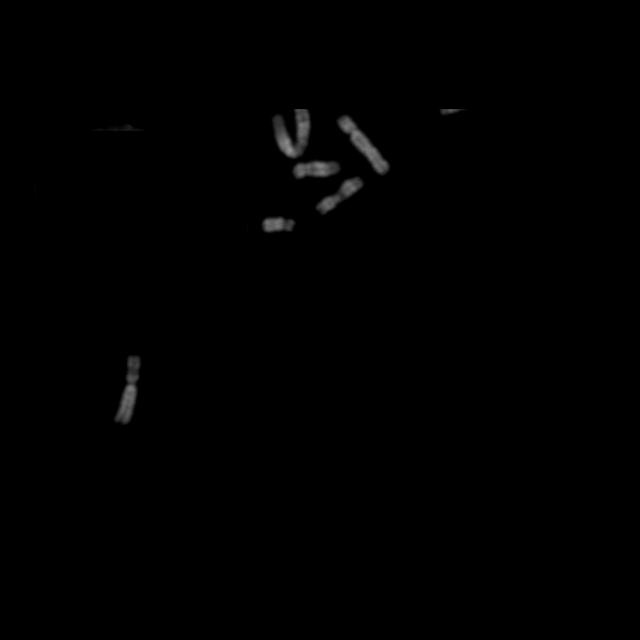chromosome: (338, 117, 390, 173), (271, 108, 311, 158), (316, 176, 364, 214), (114, 356, 140, 424), (290, 158, 340, 178), (262, 217, 296, 235)
